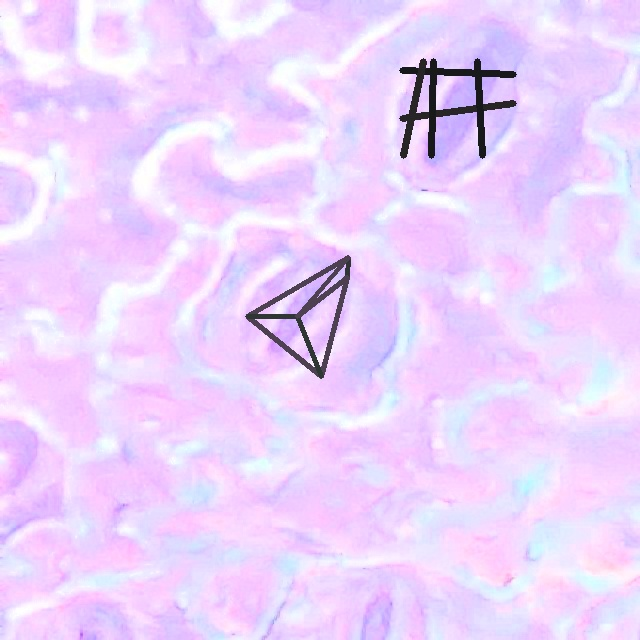open: (245, 255, 349, 378), (399, 58, 516, 158)
